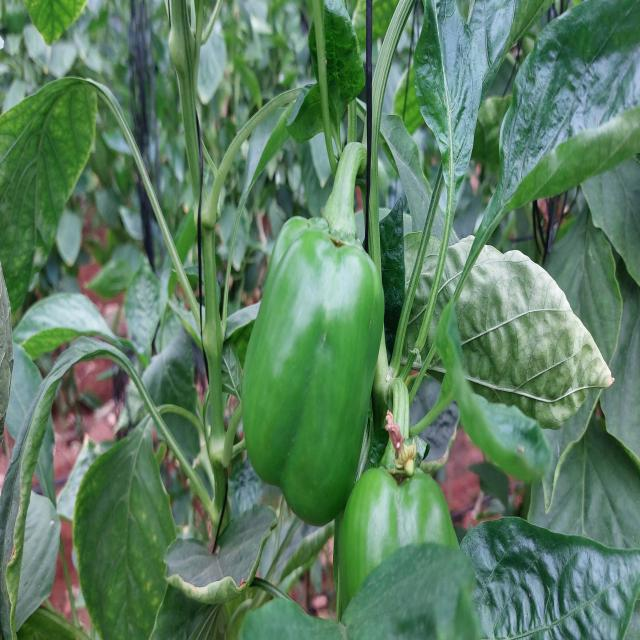Green--Not-ready-to-harvest: (245, 214, 372, 522), (337, 468, 462, 640)
